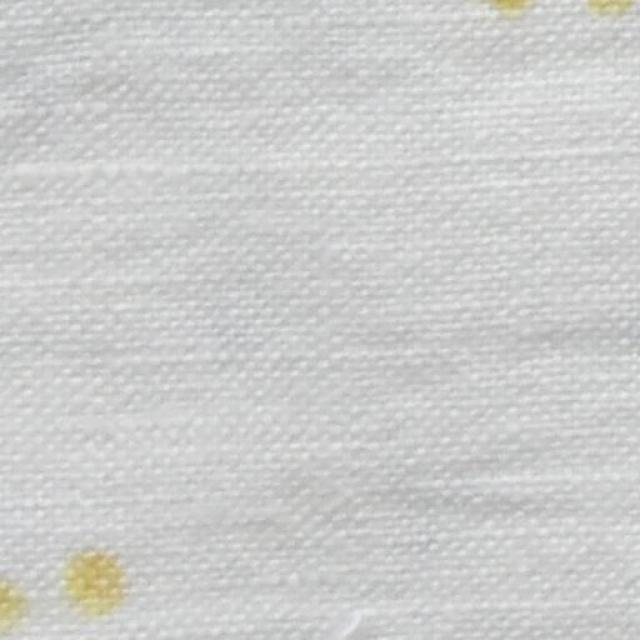Stain: (64, 552, 126, 616), (482, 1, 538, 14), (590, 1, 636, 14)
